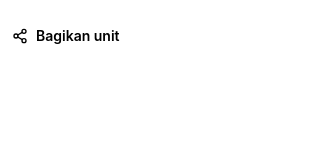
Test case: VehicleShareButton › copies the link when the native share sheet is unavailable
Click the button "Bagikan unit": x=66, y=36 [12,12,120,60]
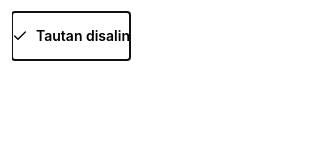
Now the button "Tautan disalin" is shown, box [12,12,130,60]
